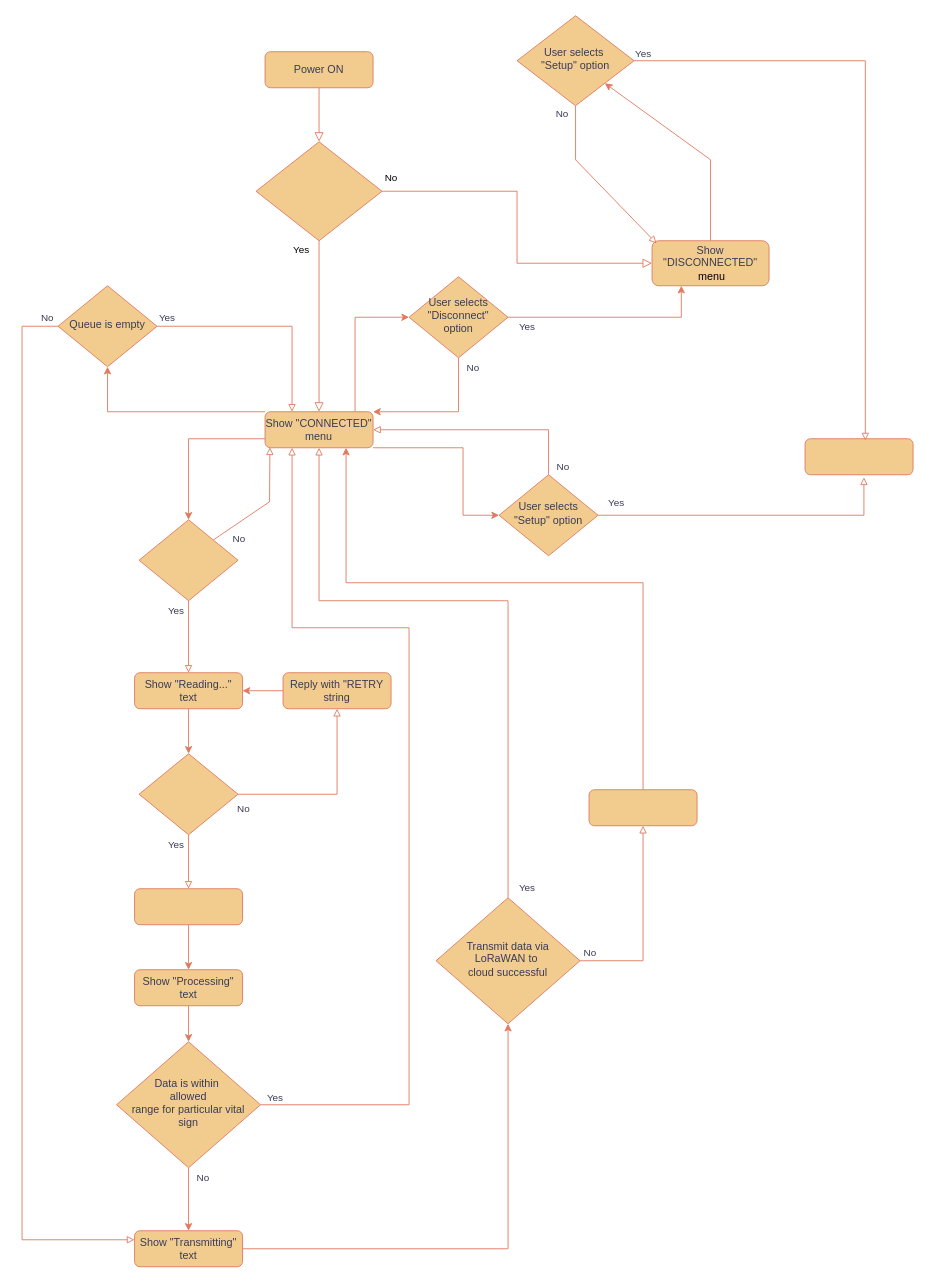
Some shapes in this 929 by 1283 pixel diagram are drawn without their labels. The shapes that lost their labels are listed below. From the top down, each one's centre as x and y in pixels, then its label:
[318,191]: Check BT Connection - Is Connected?
[858,456]: Show "SETUP" menu
[188,560]: User selects "Read" option
[188,794]: Valid data received
[642,807]: Add data to queue
[188,906]: Reply with "ACK string
